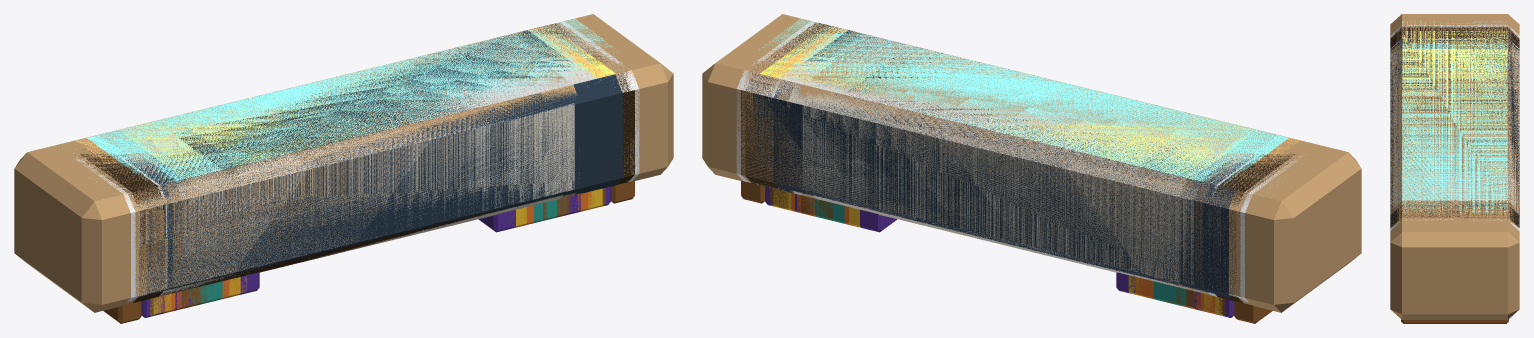
The model's file is flagship_props_027.glb.
3 renders of one model, left to right at view 1: azimuth 30°, elevation 25°; view 2: azimuth 150°, elevation 25°; view 3: azimuth 270°, elevation 25°, orthographic. The views are drawn at different scales.
Visible parts, largest first — view 1: Prop_BBIsle_Trough_16, Prop_BBIsle_Trough_06, Prop_BBIsle_Trough_19, Prop_BBIsle_Trough_08, Prop_BBIsle_Trough_04, Prop_BBIsle_Trough_03, Prop_BBIsle_Trough_09, Prop_BBIsle_Trough_14, Prop_BBIsle_Trough_07, Prop_BBIsle_Trough_12, Prop_BBIsle_Trough_10, Prop_BBIsle_Trough_15 (+5 smaller); view 2: Prop_BBIsle_Trough_16, Prop_BBIsle_Trough_13, Prop_BBIsle_Trough_19, Prop_BBIsle_Trough_03, Prop_BBIsle_Trough_06, Prop_BBIsle_Trough_14, Prop_BBIsle_Trough_04, Prop_BBIsle_Trough_09, Prop_BBIsle_Trough_10, Prop_BBIsle_Trough_12, Prop_BBIsle_Trough_15, Prop_BBIsle_Trough_05 (+5 smaller); view 3: Prop_BBIsle_Trough_19, Prop_BBIsle_Trough_14, Prop_BBIsle_Trough_04, Prop_BBIsle_Trough_03, Prop_BBIsle_Trough_16, Prop_BBIsle_Trough_17, Prop_BBIsle_Trough_12, Prop_BBIsle_Trough_15, Prop_BBIsle_Trough_06, Prop_BBIsle_Trough_09, Prop_BBIsle_Trough_08, Prop_BBIsle_Trough_13 (+3 smaller).
Boxes of the visible parts, x1=… form: Prop_BBIsle_Trough_16: x1=87, y1=26, x2=622, y2=312; Prop_BBIsle_Trough_06: x1=119, y1=30, x2=576, y2=310; Prop_BBIsle_Trough_19: x1=14, y1=14, x2=673, y2=323; Prop_BBIsle_Trough_08: x1=145, y1=39, x2=574, y2=300; Prop_BBIsle_Trough_04: x1=99, y1=31, x2=573, y2=309; Prop_BBIsle_Trough_03: x1=108, y1=33, x2=579, y2=305; Prop_BBIsle_Trough_09: x1=182, y1=37, x2=579, y2=304; Prop_BBIsle_Trough_14: x1=79, y1=22, x2=633, y2=315; Prop_BBIsle_Trough_07: x1=174, y1=48, x2=526, y2=297; Prop_BBIsle_Trough_12: x1=80, y1=23, x2=630, y2=314; Prop_BBIsle_Trough_10: x1=115, y1=30, x2=596, y2=310; Prop_BBIsle_Trough_15: x1=74, y1=21, x2=639, y2=317; Prop_BBIsle_Trough_16: x1=753, y1=29, x2=1288, y2=314; Prop_BBIsle_Trough_13: x1=802, y1=54, x2=1249, y2=304; Prop_BBIsle_Trough_19: x1=702, y1=14, x2=1361, y2=323; Prop_BBIsle_Trough_03: x1=788, y1=33, x2=1267, y2=306; Prop_BBIsle_Trough_06: x1=773, y1=30, x2=1254, y2=308; Prop_BBIsle_Trough_14: x1=741, y1=22, x2=1297, y2=315; Prop_BBIsle_Trough_04: x1=778, y1=31, x2=1276, y2=309; Prop_BBIsle_Trough_09: x1=795, y1=36, x2=1223, y2=303; Prop_BBIsle_Trough_10: x1=771, y1=30, x2=1263, y2=310; Prop_BBIsle_Trough_12: x1=745, y1=23, x2=1294, y2=315; Prop_BBIsle_Trough_15: x1=736, y1=21, x2=1302, y2=317; Prop_BBIsle_Trough_05: x1=860, y1=108, x2=1185, y2=293; Prop_BBIsle_Trough_19: x1=1390, y1=14, x2=1519, y2=323; Prop_BBIsle_Trough_14: x1=1390, y1=27, x2=1519, y2=228; Prop_BBIsle_Trough_04: x1=1390, y1=41, x2=1519, y2=214; Prop_BBIsle_Trough_03: x1=1390, y1=45, x2=1519, y2=209; Prop_BBIsle_Trough_16: x1=1390, y1=31, x2=1519, y2=223; Prop_BBIsle_Trough_17: x1=1390, y1=26, x2=1517, y2=226; Prop_BBIsle_Trough_12: x1=1390, y1=28, x2=1519, y2=227; Prop_BBIsle_Trough_15: x1=1390, y1=25, x2=1519, y2=230; Prop_BBIsle_Trough_06: x1=1390, y1=39, x2=1519, y2=214; Prop_BBIsle_Trough_09: x1=1395, y1=48, x2=1509, y2=200; Prop_BBIsle_Trough_08: x1=1394, y1=50, x2=1515, y2=197; Prop_BBIsle_Trough_13: x1=1390, y1=53, x2=1519, y2=204.
Size of the model in its own units: 2.5 by 0.525 by 0.6.
